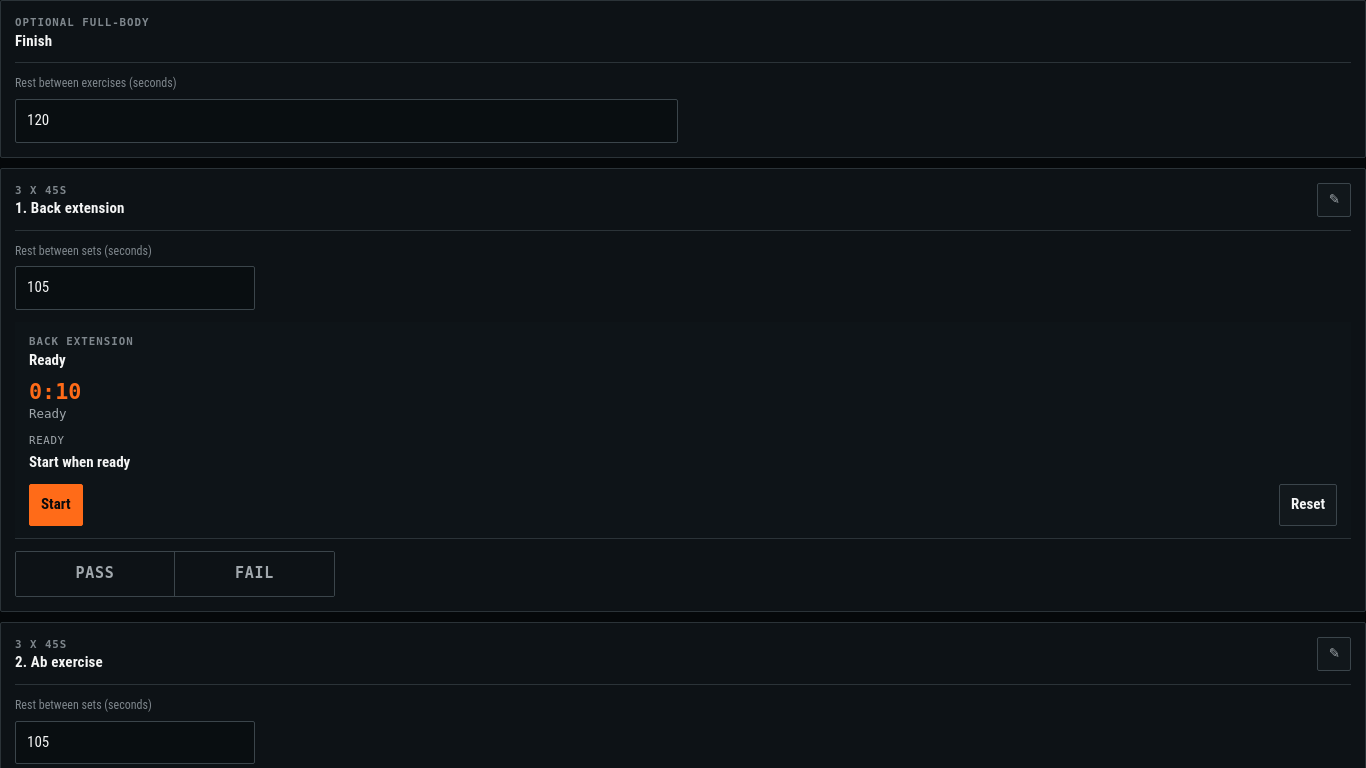
Test: FinishWorkoutScreen › stops an exercise timer when its transition rest starts
Click the button "Start": click(56, 505) 29,484 -> 83,526
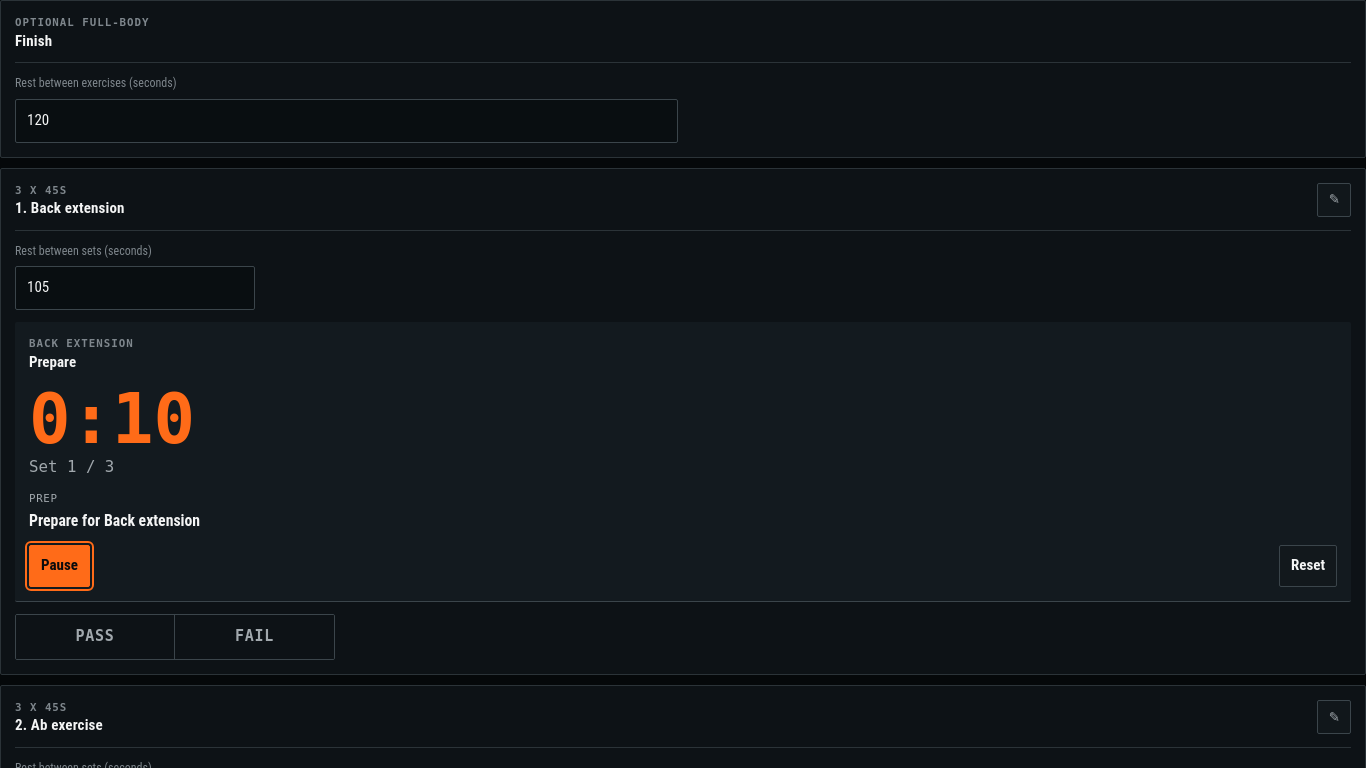
Click the button "pass": click(96, 637) 16,615 -> 175,659
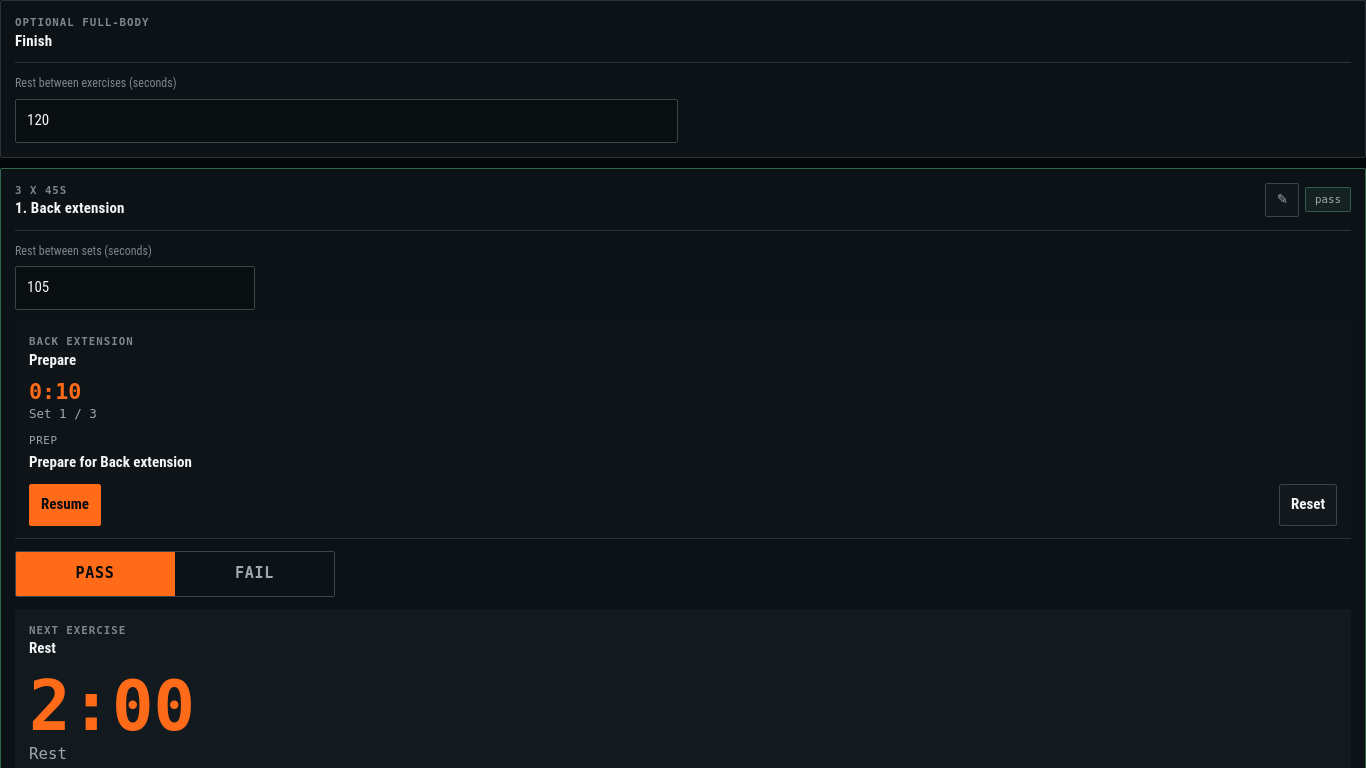
Expected: the text "Next exercise" is shown, 29,624 -> 126,637
